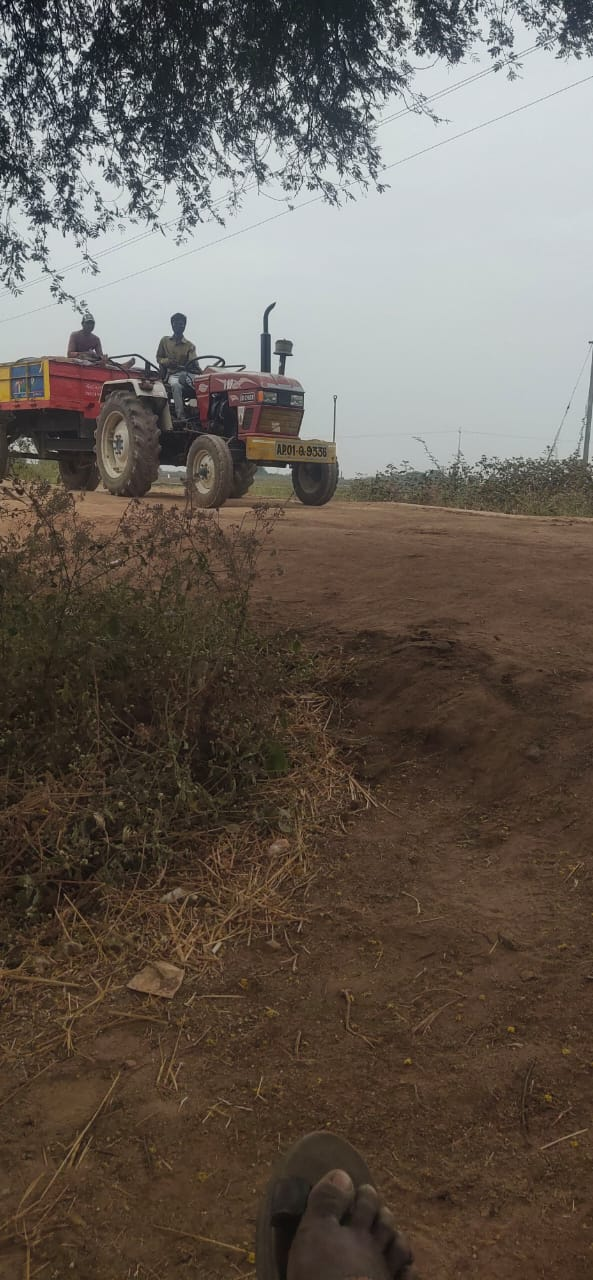num_plate: (272, 437, 329, 461)
